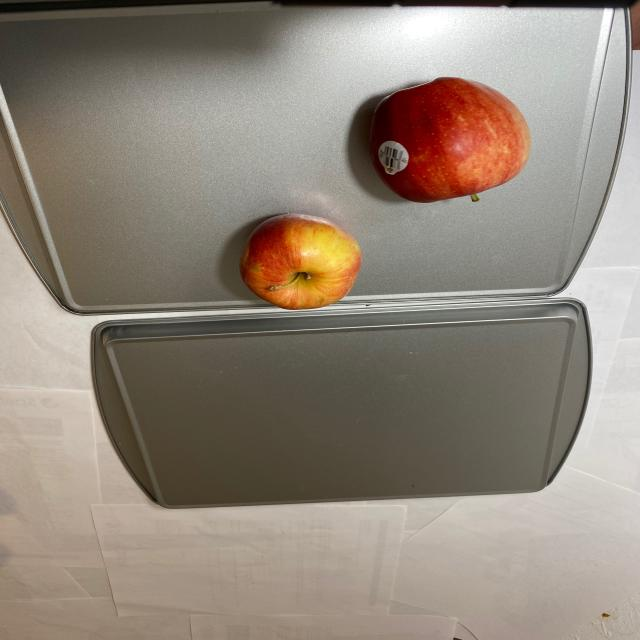apple: (365, 78, 530, 213), (232, 213, 366, 310)
